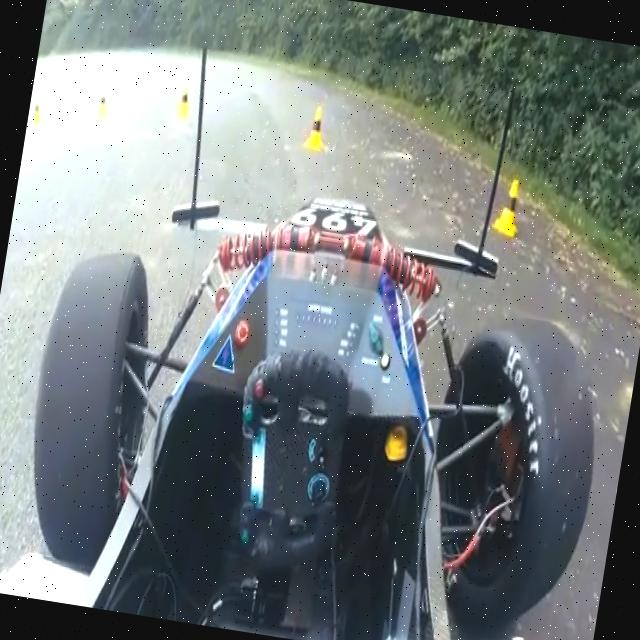yellow_cone: (490, 177, 527, 245), (303, 100, 331, 154), (176, 86, 195, 126), (94, 92, 110, 126), (32, 100, 44, 128)
